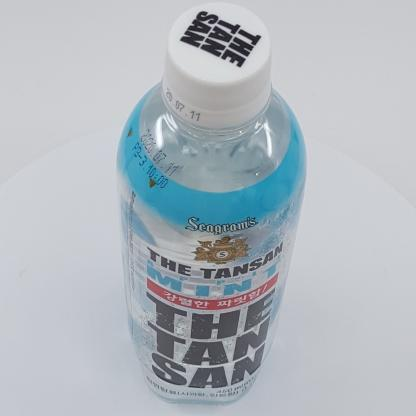------------450ML: (116, 2, 307, 405)
